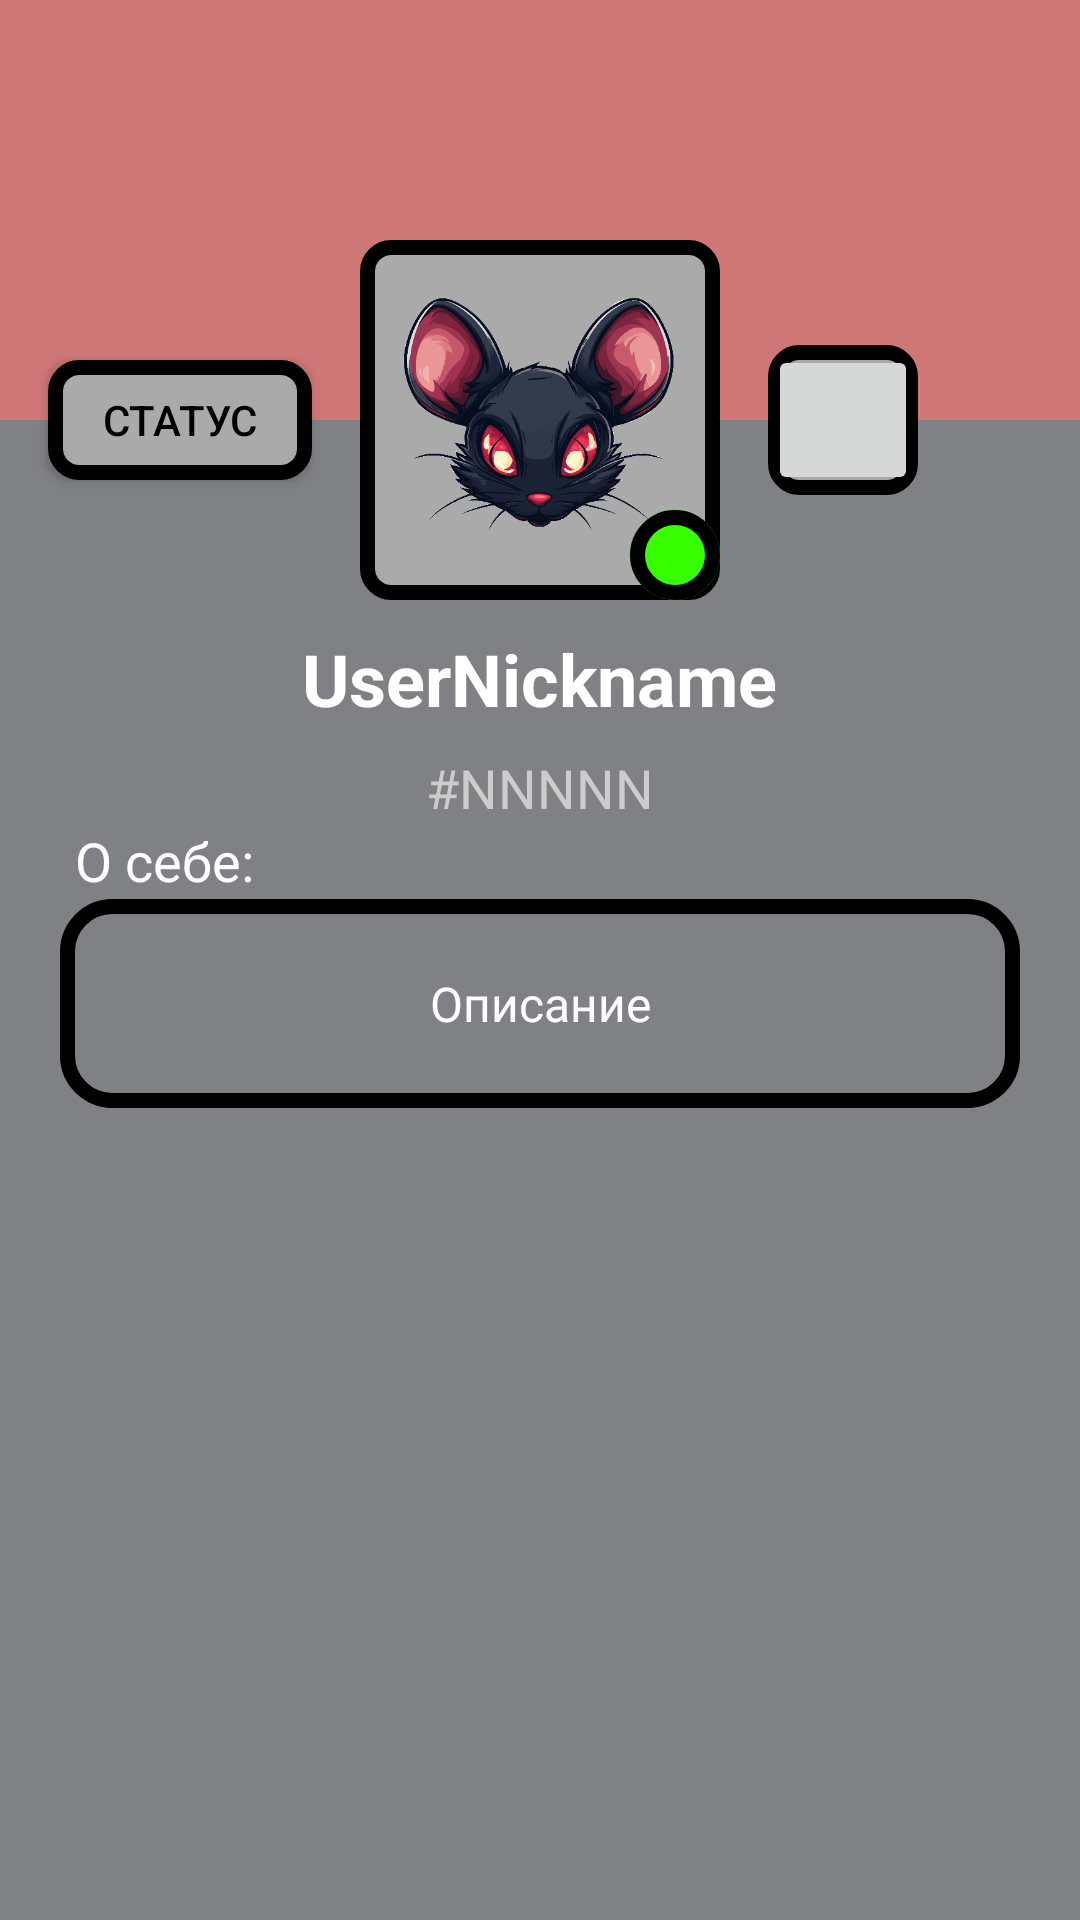

Point at icon controls on the screen. Image size 1080px x 1920px, points as [x,y].
mouseicon: [540,420]
